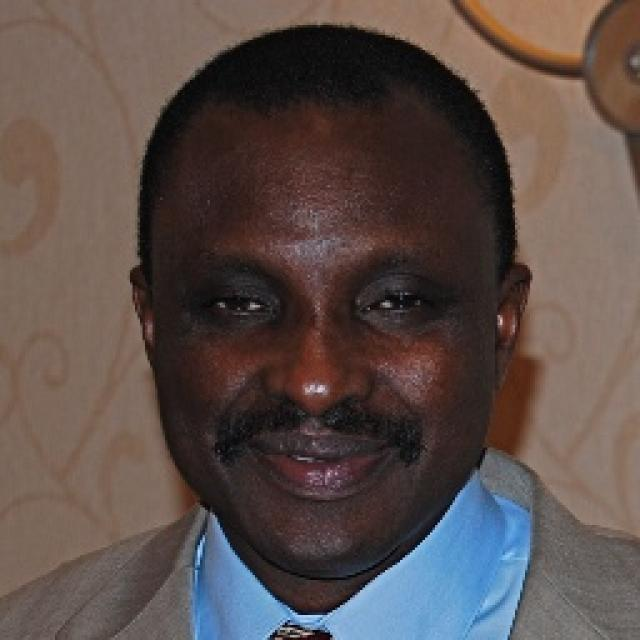earlobe: (490, 262, 533, 393), (128, 267, 160, 376)
